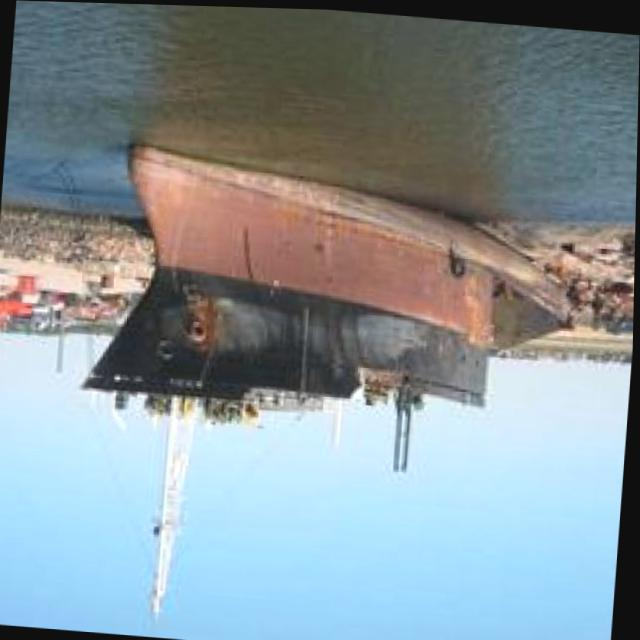ship2: (80, 139, 580, 616)
